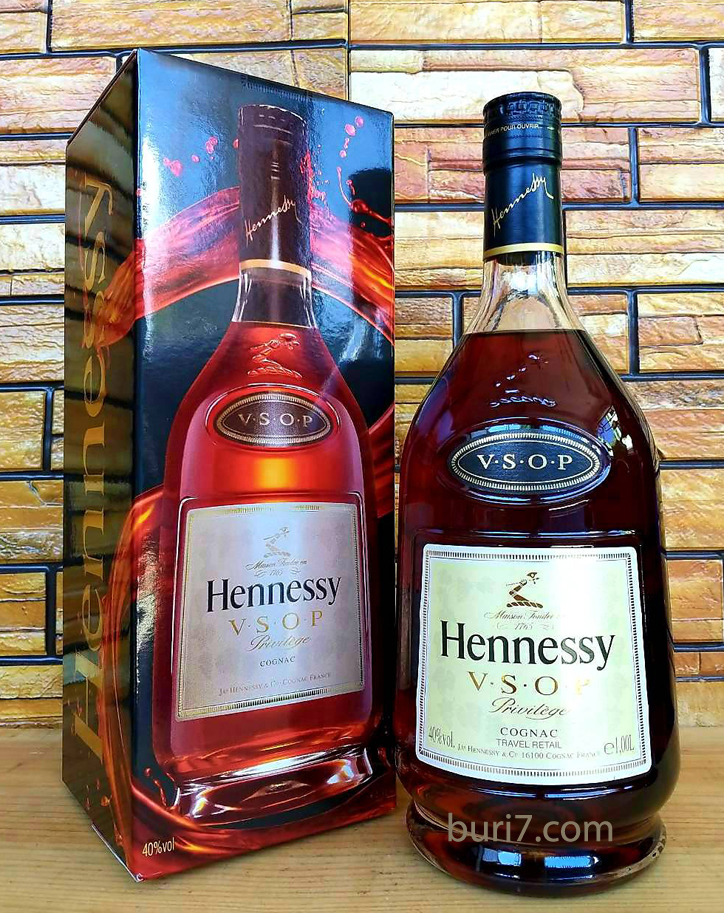Hennessy: (370, 80, 697, 906)
